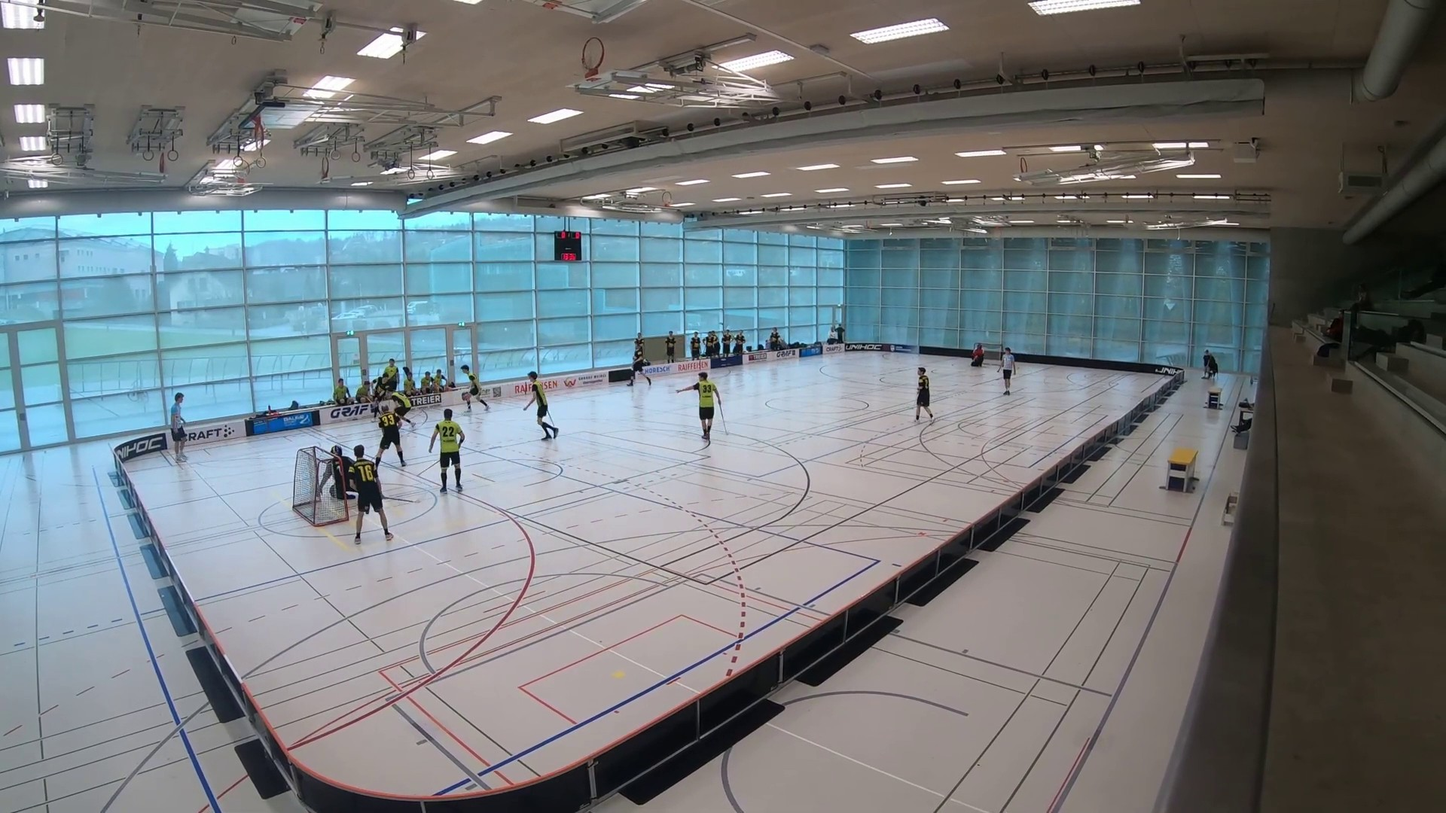Schiri: (166, 387, 191, 463), (996, 341, 1017, 396)
goalkeeper: (318, 445, 355, 499), (971, 343, 985, 366)
player: (348, 445, 392, 544), (676, 372, 720, 439), (429, 409, 464, 492), (523, 371, 558, 440), (375, 403, 404, 467), (461, 364, 489, 410), (371, 371, 392, 425), (915, 366, 933, 419), (627, 348, 651, 385), (389, 391, 413, 425)
